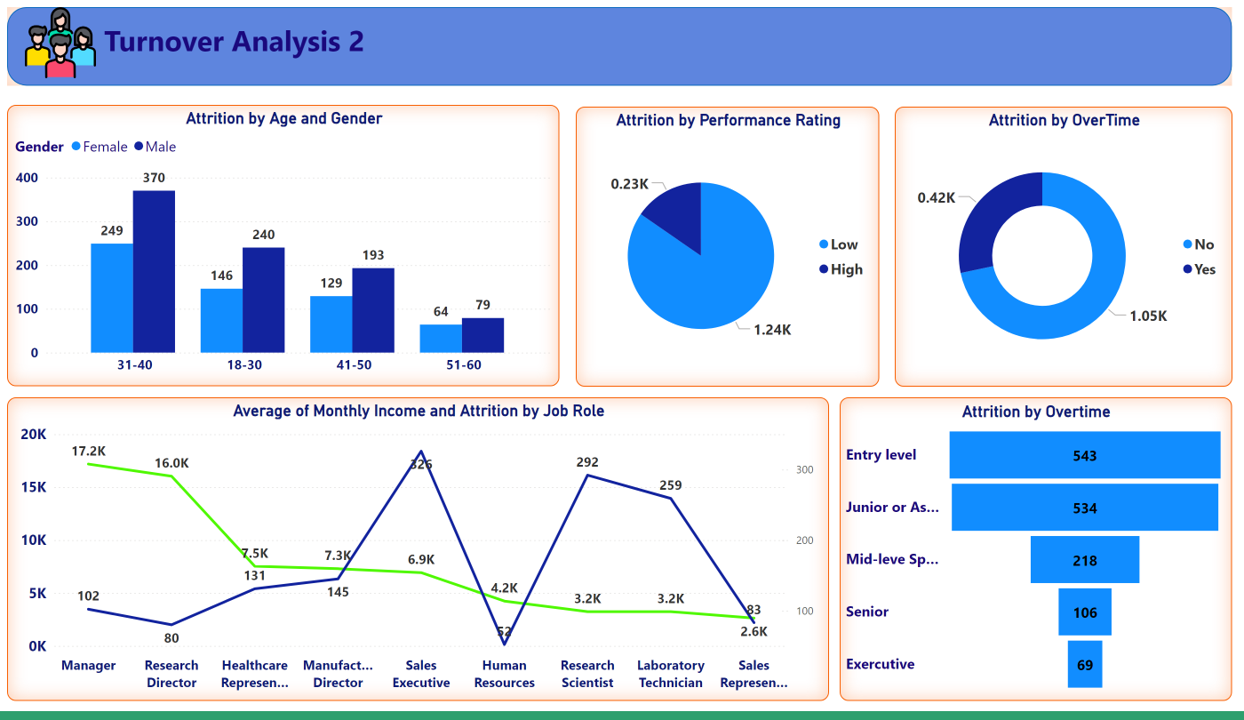

This screenshot's page, from the dashboard's own definition file:
{"tool":"powerbi","page":{"name":"Turnover analysis2","canvas":[1400,800],"ordinal":3},"visuals":[{"type":"shape","box":[8.3,8.3,1378.3,88.3],"z":0},{"type":"textbox","box":[83.3,18.3,361.7,58.3],"z":1000},{"type":"image","box":[28.3,8.3,80,80],"z":2000},{"type":"clusteredColumnChart","title":"Attrition by Age and Gender","fields":{"Y":["CountNonNull(HR-Employee-Attrition.Attrition)"],"Category":["HR-Employee-Attrition.Age (groups)"],"Series":["HR-Employee-Attrition.Gender"]},"box":[8.3,118.3,621.7,316.7],"z":3000},{"type":"donutChart","title":"Attrition by OverTime","fields":{"Y":["CountNonNull(HR-Employee-Attrition.Attrition)"],"Category":["HR-Employee-Attrition.OverTime"]},"box":[1006.7,120,380,315],"z":4000},{"type":"pieChart","title":"Attrition by Performance Rating","fields":{"Category":["HR-Employee-Attrition.Performance Rating (groups)"],"Y":["CountNonNull(HR-Employee-Attrition.Attrition)"]},"box":[647.5,120,341.7,315],"z":5000},{"type":"funnel","title":"Attrition by Overtime","fields":{"Y":["CountNonNull(HR-Employee-Attrition.Attrition)"],"Category":["HR-Employee-Attrition.Overtime 2"]},"box":[945,446.7,441.7,341.7],"z":6000},{"type":"lineChart","title":"Average of Monthly Income and Attrition by Job Role","fields":{"Category":["HR-Employee-Attrition.Job Role"],"Y":["Avg(HR-Employee-Attrition.Monthly Income)"],"Y2":["CountNonNull(HR-Employee-Attrition.Attrition)"]},"box":[8.3,446.7,925,341.7],"z":7000}]}

Visuals, with their boxes in screenshot pixels (x1, y1, x2, y2), scaled from the page's 1400x800 canvas onto the 1244x720 screenshot:
shape: [7, 7, 1232, 87]
textbox: [74, 16, 395, 69]
image: [25, 7, 96, 79]
"Attrition by Age and Gender" clusteredColumnChart: [7, 106, 560, 392]
"Attrition by OverTime" donutChart: [895, 108, 1232, 392]
"Attrition by Performance Rating" pieChart: [575, 108, 879, 392]
"Attrition by Overtime" funnel: [840, 402, 1232, 710]
"Average of Monthly Income and Attrition by Job Role" lineChart: [7, 402, 829, 710]
